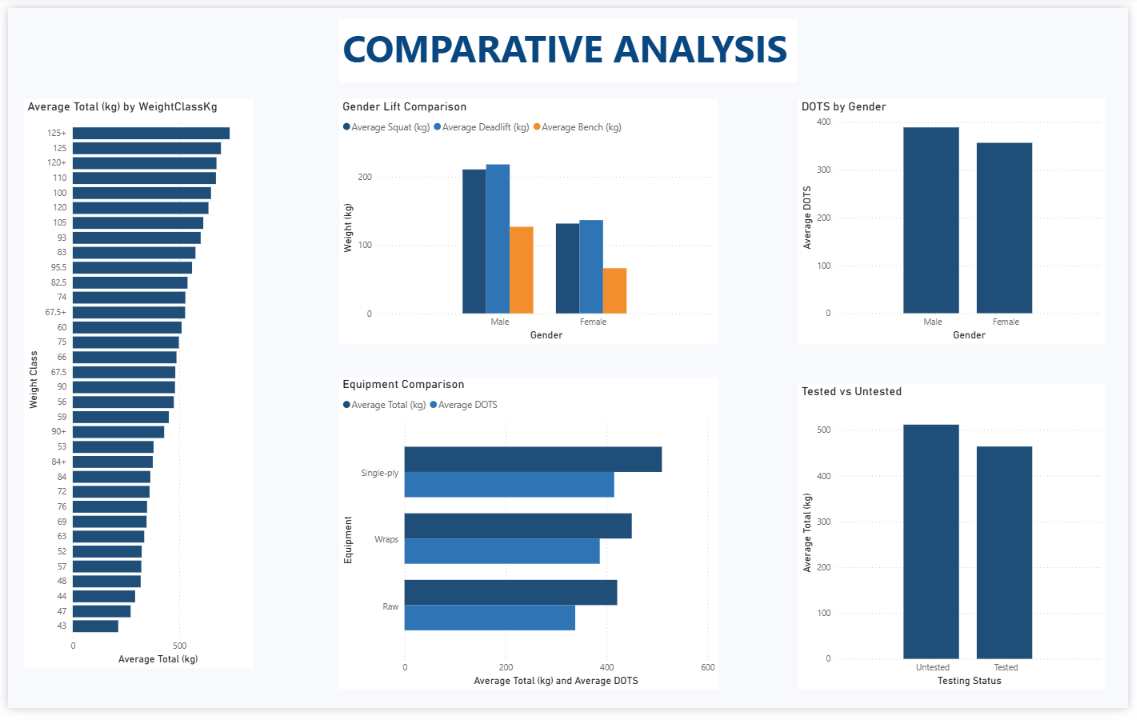

This screenshot's page, from the dashboard's own definition file:
{"tool":"powerbi","page":{"name":"Comparative Analysis","canvas":[1600,1000],"ordinal":2},"visuals":[{"type":"textbox","box":[473.3,15,655,90],"z":0},{"type":"clusteredColumnChart","title":"Gender Lift Comparison","fields":{"Category":["dim_athlete.Gender"],"Y":["Measure Table.Average Squat","Measure Table.Average Deadlift","Measure Table.Average Bench"]},"box":[473.3,130,541.7,350],"z":1000},{"type":"clusteredBarChart","title":"Equipment Comparison","fields":{"Category":["dim_equipment.EquipmentName"],"Y":["Measure Table.Average Total","Measure Table.Average DOTS"]},"box":[473.3,526.7,541.7,446.7],"z":2000},{"type":"clusteredColumnChart","title":"Tested vs Untested","fields":{"Y":["Measure Table.Average Total"],"Category":["fact_results.Testing Status"]},"box":[1128.3,536.7,438.3,436.7],"z":3000},{"type":"clusteredBarChart","fields":{"Category":["dim_weight_class.WeightClassKg"],"Y":["Measure Table.Average Total"]},"box":[23.3,130,328.3,813.3],"z":4000},{"type":"clusteredColumnChart","title":"DOTS by Gender","fields":{"Category":["dim_athlete.Gender"],"Y":["Measure Table.Average DOTS"]},"box":[1128.3,130,438.3,350],"z":5000}]}

Visuals, with their boxes in screenshot pixels (x1, y1, x2, y2), scaled from the page's 1600x1000 canvas onto the 1137x722 screenshot:
textbox: <box>336,11,802,76</box>
"Gender Lift Comparison" clusteredColumnChart: <box>336,94,721,347</box>
"Equipment Comparison" clusteredBarChart: <box>336,380,721,703</box>
"Tested vs Untested" clusteredColumnChart: <box>802,387,1113,703</box>
clusteredBarChart - dim_weight_class.WeightClassKg x Measure Table.Average Total: <box>17,94,250,681</box>
"DOTS by Gender" clusteredColumnChart: <box>802,94,1113,347</box>
